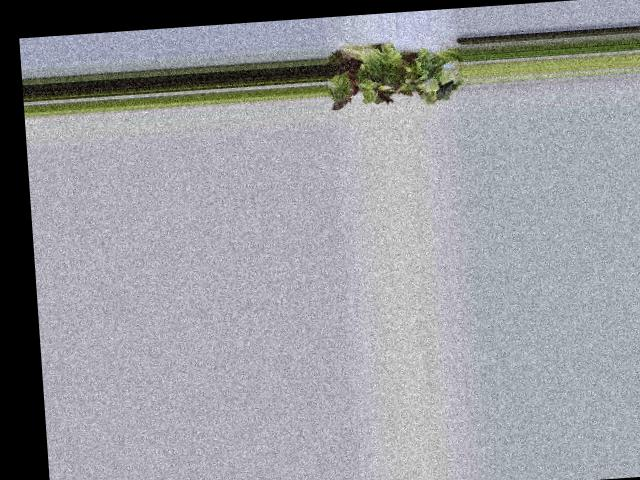lettuce: (330, 46, 456, 105)
